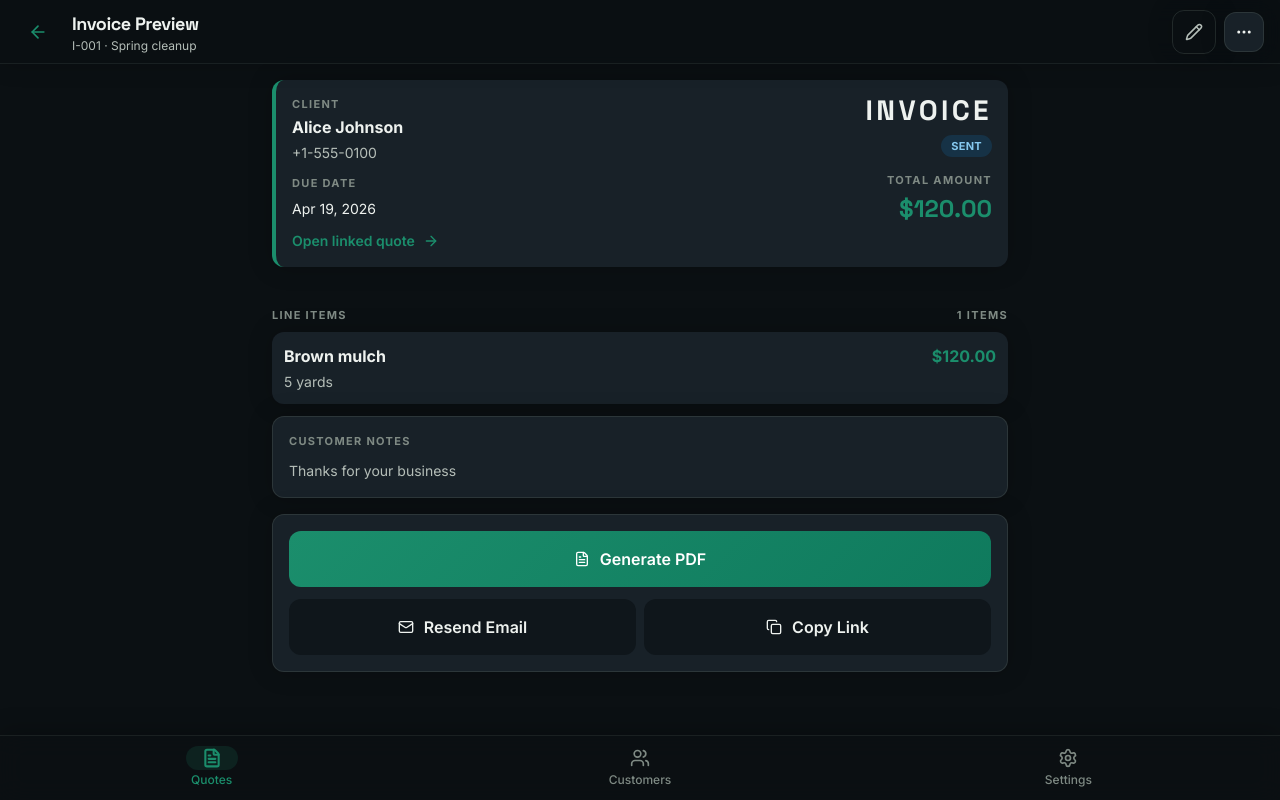
Test: InvoiceDetailScreen › shows both outcome actions in overflow for sent invoices
This screenshot has width=1280, height=800.
Expected: the heading "Invoice Preview" is shown, [72,12,199,35]
Click the button named "more actions": [1244, 32] box [1224,12,1264,52]
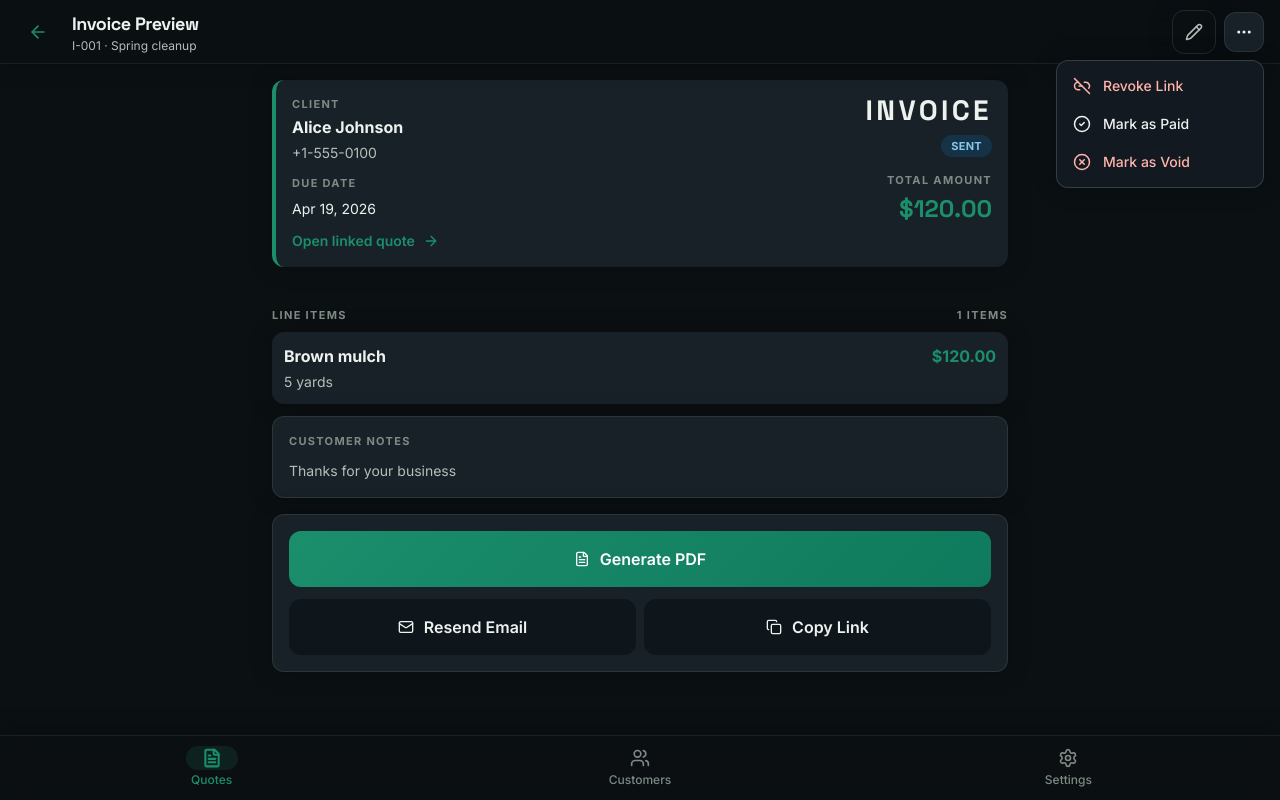
Expected: the menu item "Mark as Paid" is shown, [1063,105,1257,143]
Expected: the menu item "Mark as Void" is shown, [1063,143,1257,181]
